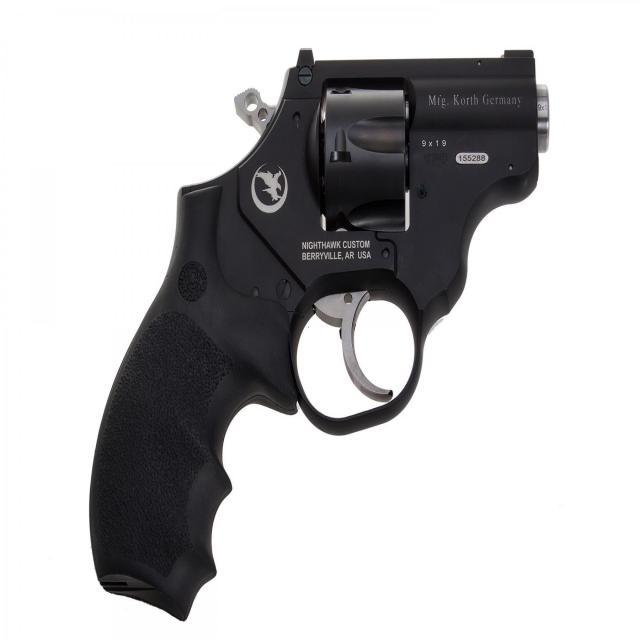revolver: (79, 39, 558, 634)
